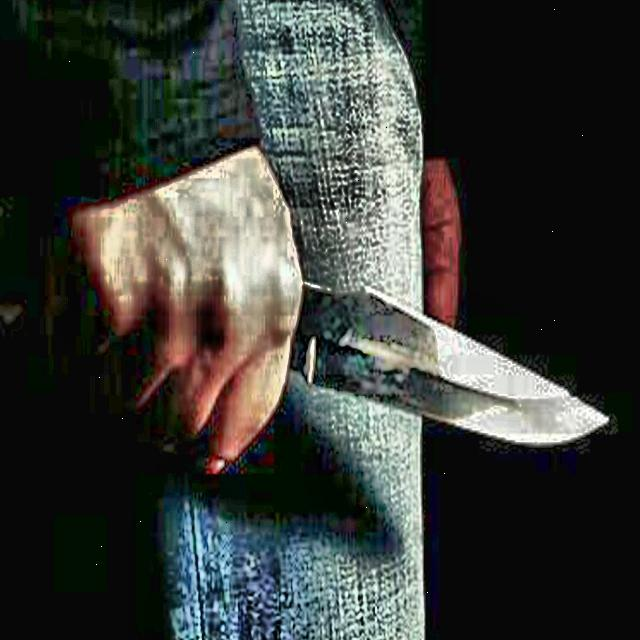knife: (292, 284, 608, 447)
